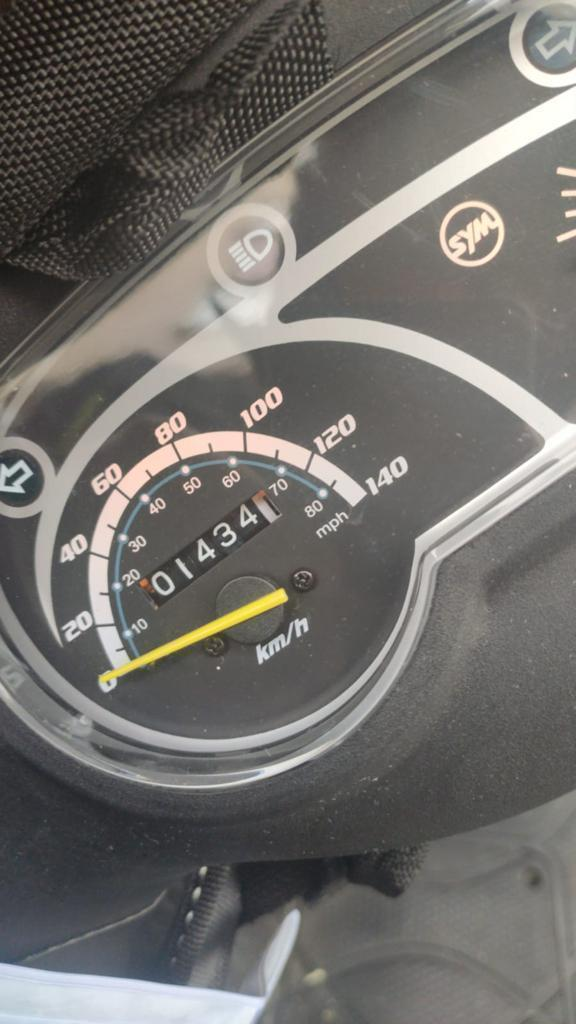0: (151, 569, 176, 597), (153, 496, 167, 510), (135, 534, 148, 547), (128, 568, 140, 580)
1: (170, 556, 196, 582), (259, 492, 281, 519)
2: (122, 574, 134, 587)
3: (211, 523, 239, 547), (127, 540, 139, 554)
4: (234, 501, 259, 530), (191, 538, 218, 564), (147, 502, 160, 516)
5: (182, 480, 194, 496)
7: (268, 482, 279, 495)
odometer: (126, 484, 290, 610)
